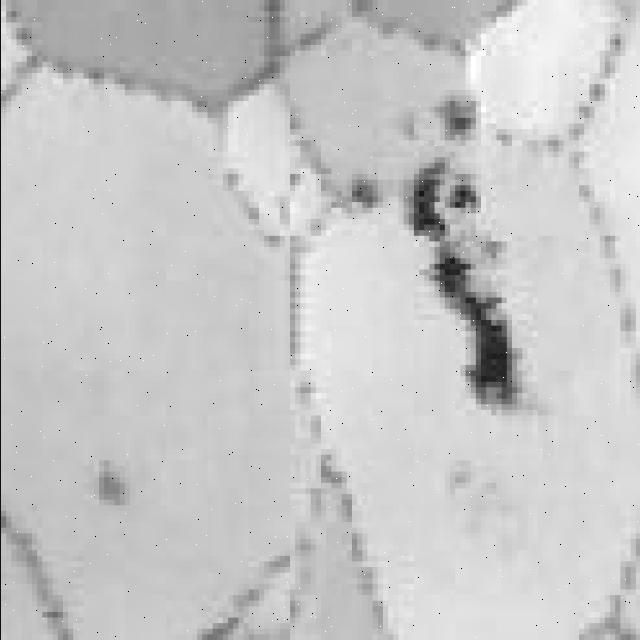good_void: (434, 258, 516, 404), (413, 174, 444, 236), (93, 466, 124, 505), (434, 107, 475, 135), (351, 180, 377, 208), (449, 191, 475, 208), (480, 247, 501, 258)
